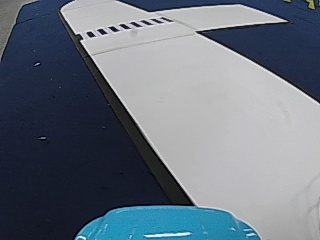CrossWalk: (80, 16, 172, 42)
